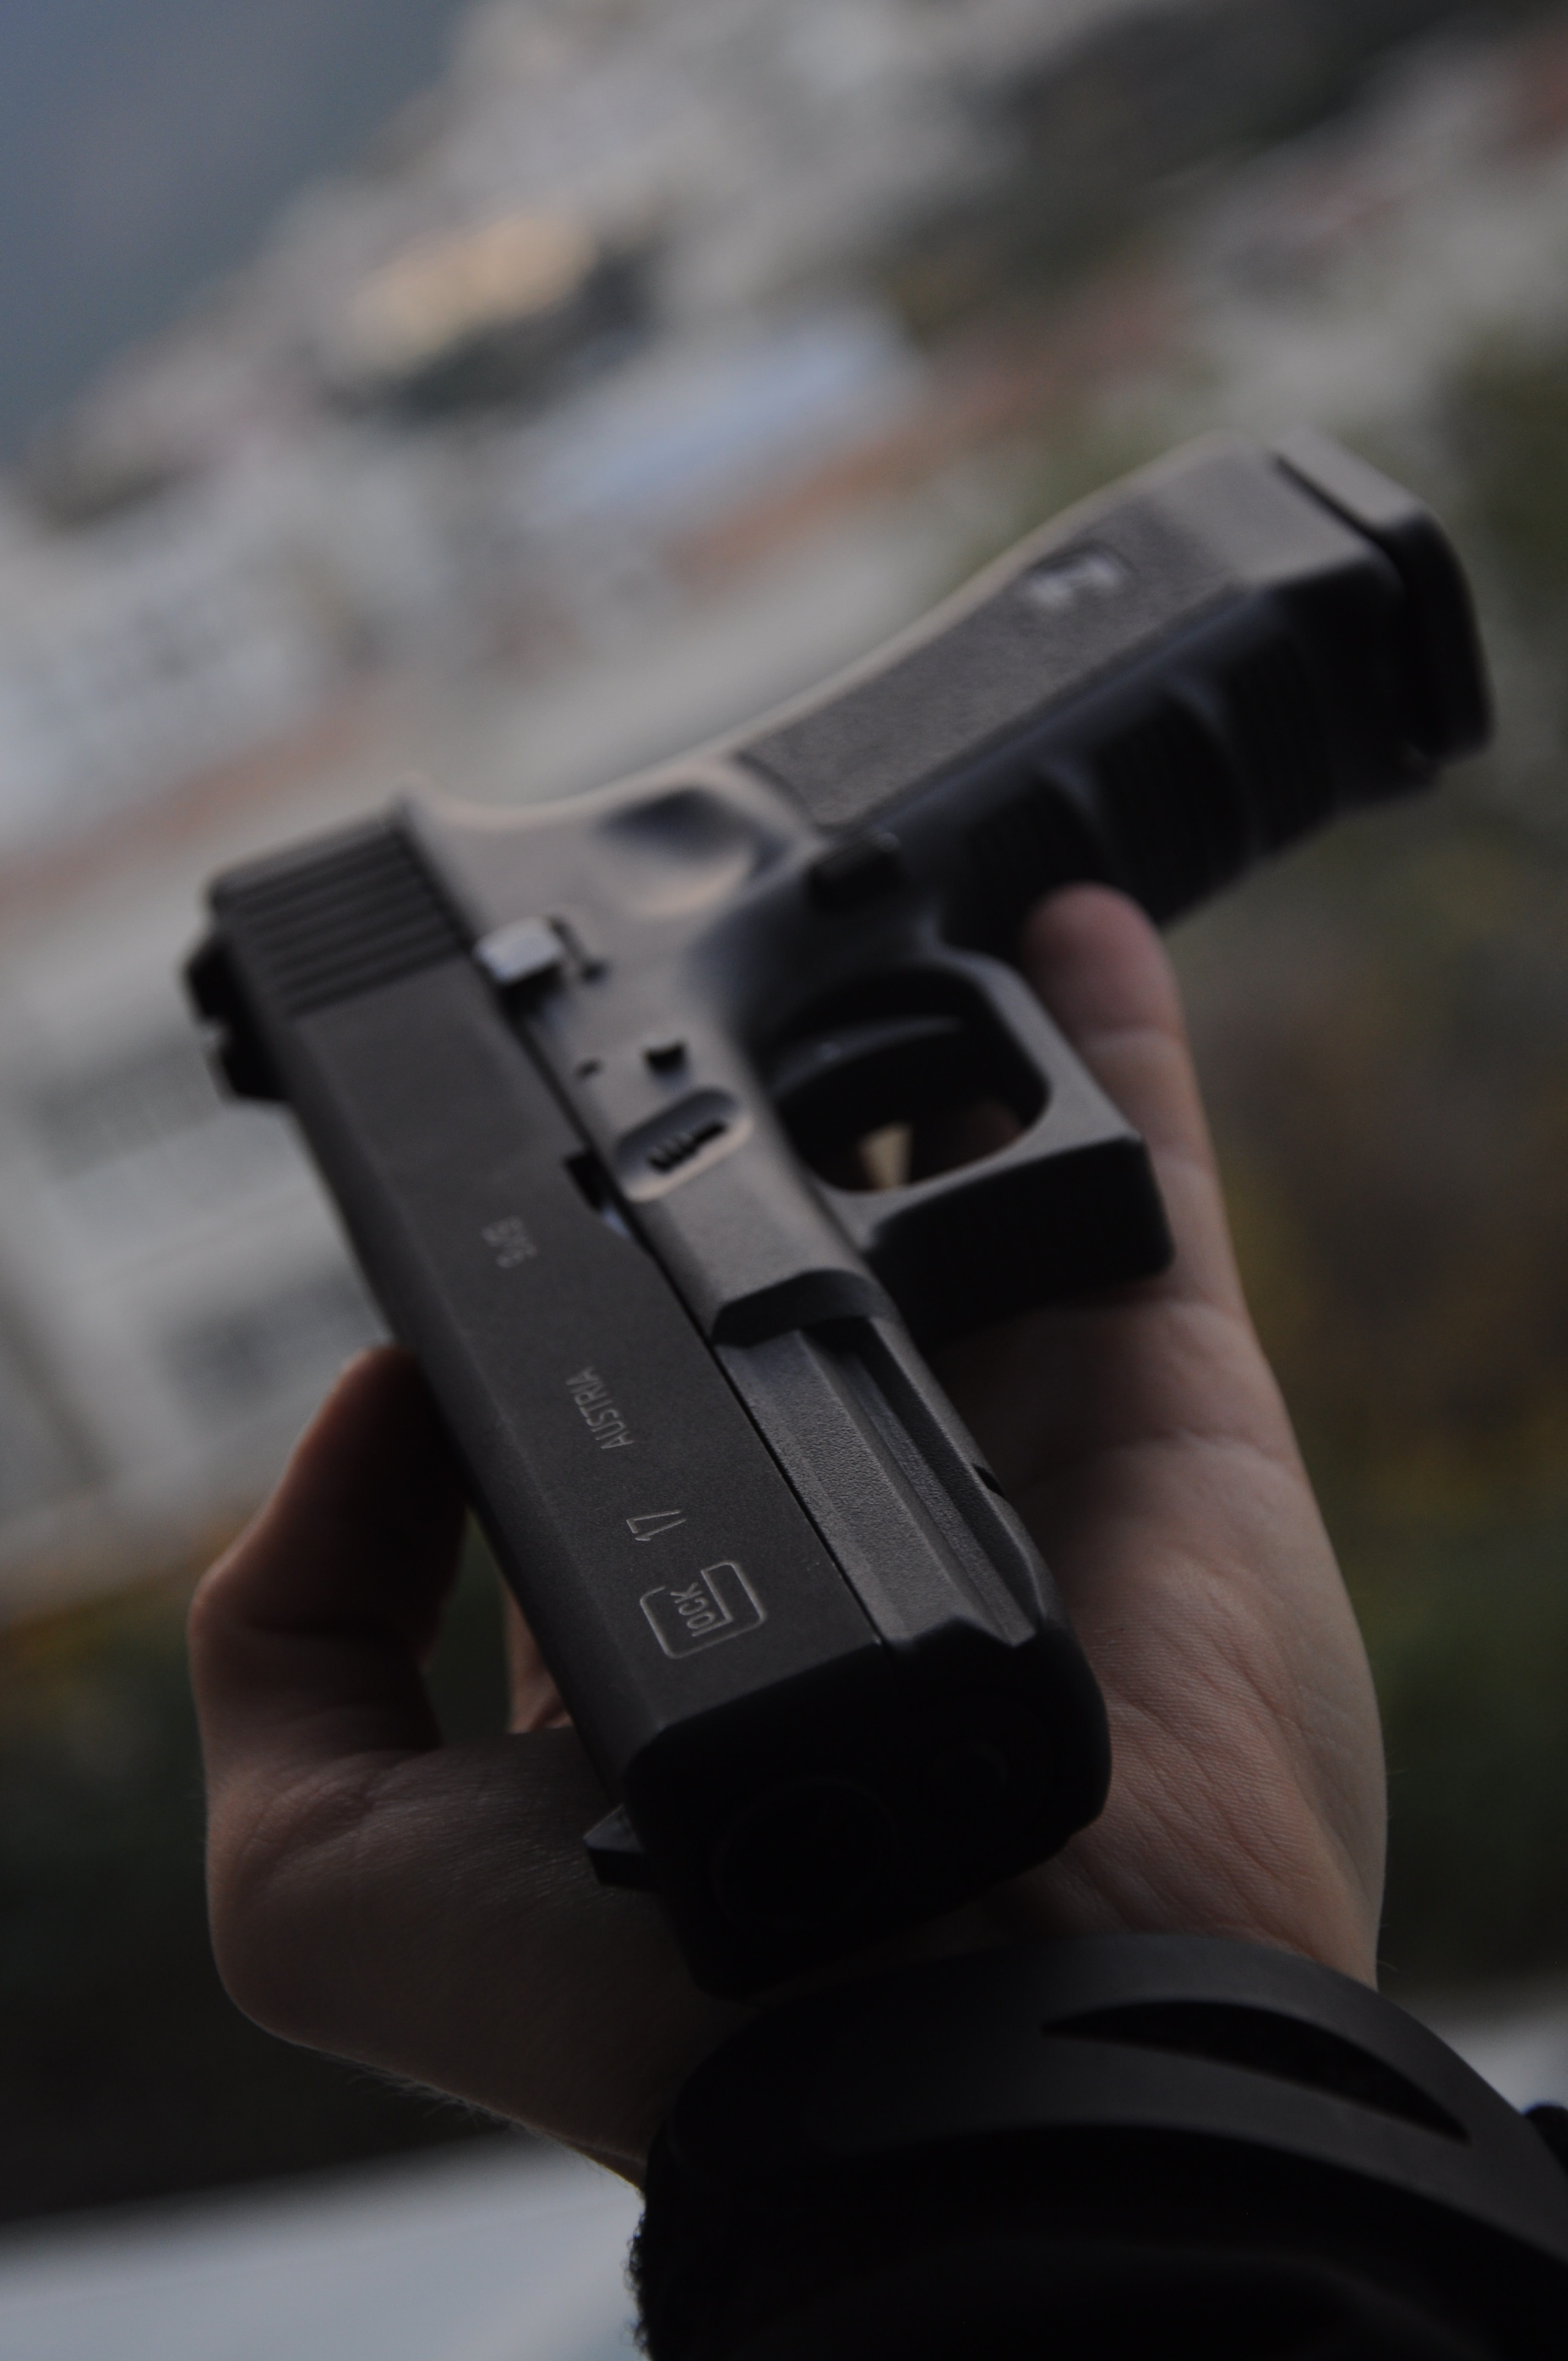gun: (178, 418, 1517, 2025)
